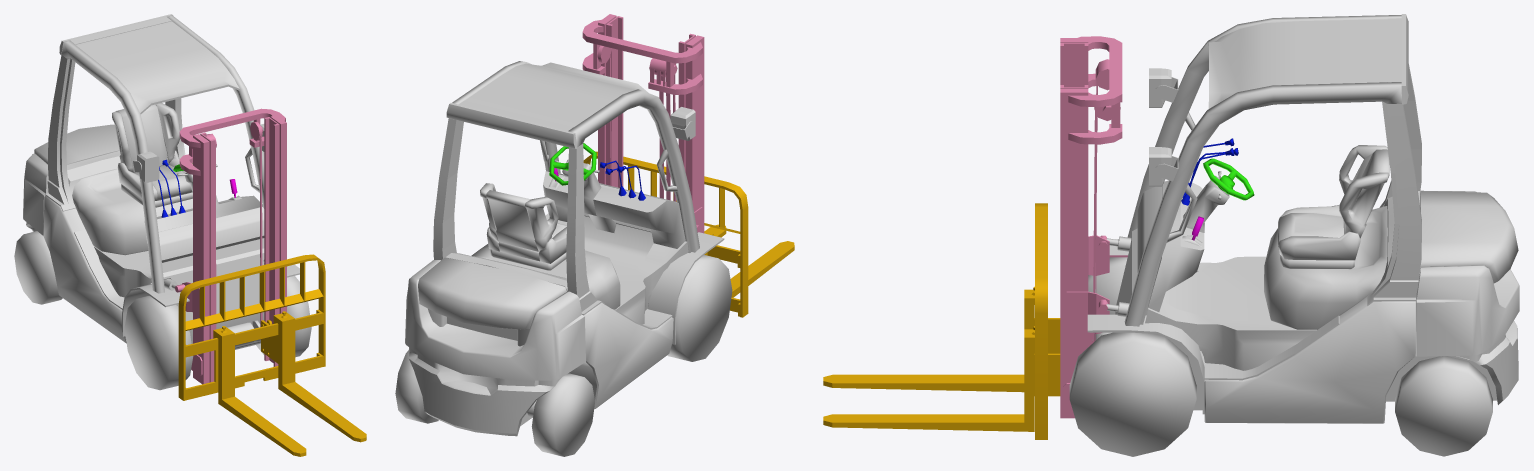
The model's file is ForkLiftfbx.fbx.
The picture shows the model from 3 angles, left to right: view 1: azimuth 30°, elevation 25°; view 2: azimuth 150°, elevation 25°; view 3: azimuth 270°, elevation 25°; orthographic projection. The views are drawn at different scales.
Parts seen in each view (by area): view 1: FORK, Horquilla, horquilla2, Palancas; view 2: FORK, horquilla2, Horquilla, Volante, Palancas; view 3: FORK, horquilla2, Horquilla, Volante.
Boxes of the visible parts, x1=… form: FORK: x1=14, y1=14, x2=311, y2=390; Horquilla: x1=178, y1=254, x2=366, y2=456; horquilla2: x1=175, y1=108, x2=286, y2=384; Palancas: x1=158, y1=159, x2=185, y2=217; FORK: x1=395, y1=61, x2=732, y2=456; horquilla2: x1=582, y1=14, x2=704, y2=233; Horquilla: x1=583, y1=151, x2=794, y2=317; Volante: x1=549, y1=143, x2=596, y2=185; Palancas: x1=600, y1=160, x2=645, y2=200; FORK: x1=1069, y1=14, x2=1519, y2=456; horquilla2: x1=1060, y1=36, x2=1127, y2=418; Horquilla: x1=823, y1=203, x2=1060, y2=439; Volante: x1=1203, y1=158, x2=1254, y2=200.
Bounding box in the file's own units: 118 × 212 × 371.
